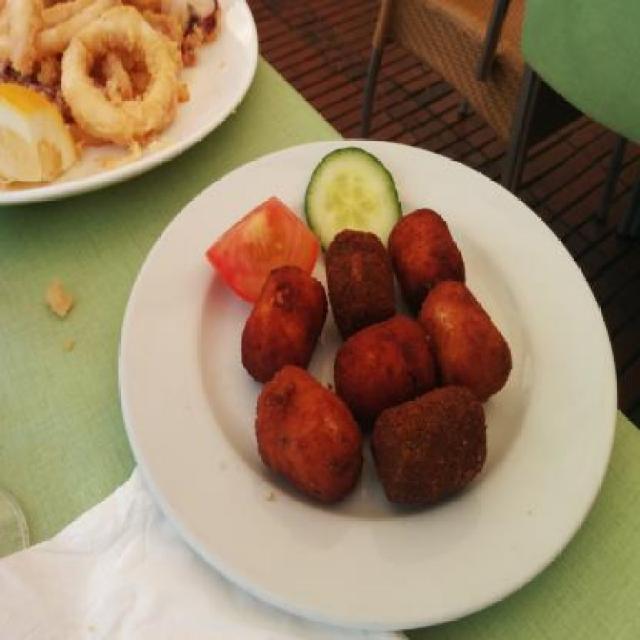Zucchini: (307, 144, 398, 242)
